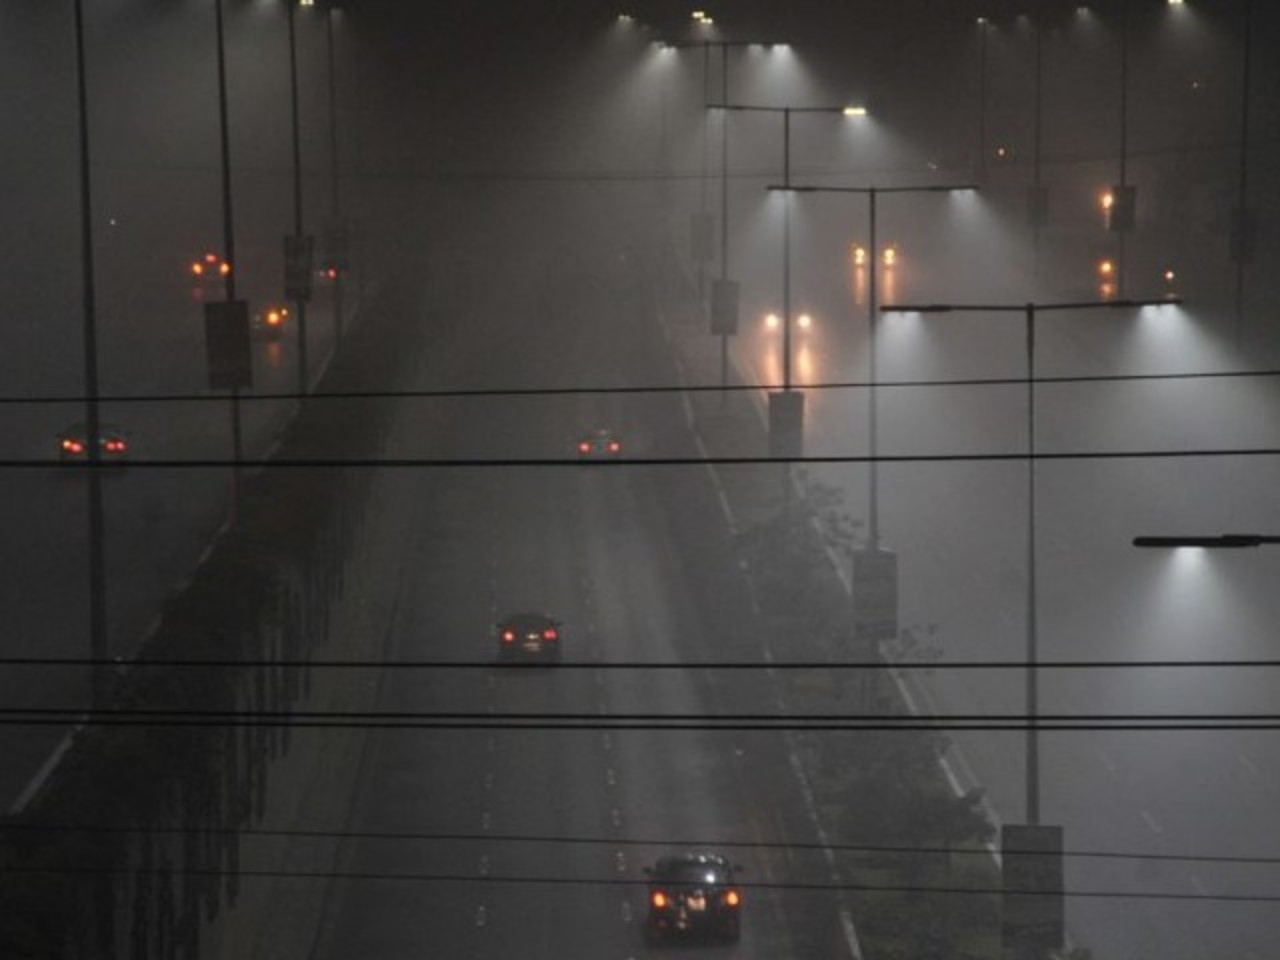car: (637, 853, 739, 947), (492, 612, 563, 661), (55, 424, 126, 466), (846, 221, 899, 272), (758, 293, 812, 338), (577, 425, 623, 465), (237, 303, 284, 337), (190, 248, 229, 280)
